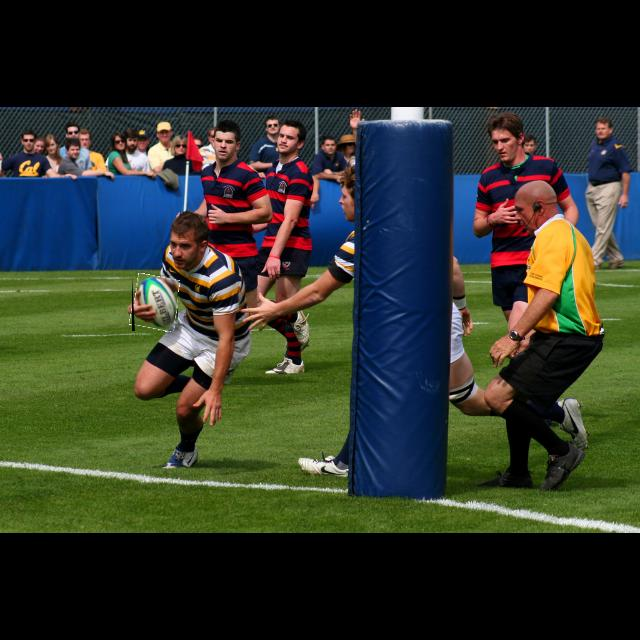Football: (132, 275, 178, 331)
